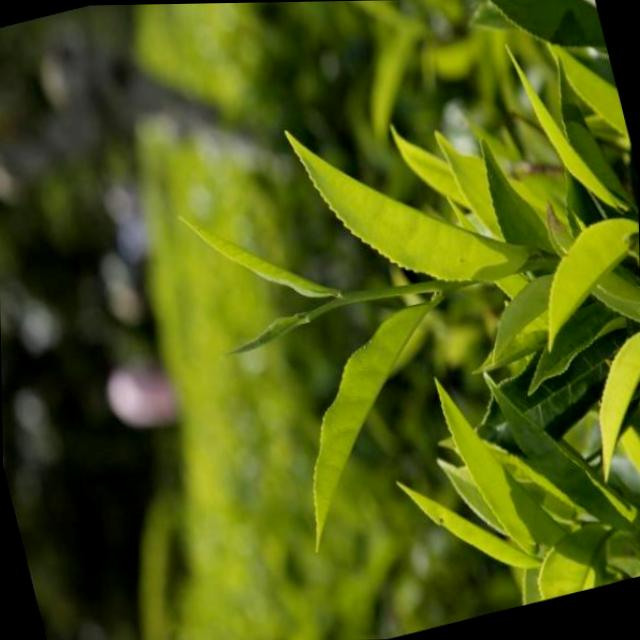Stem: (340, 288, 372, 303)
